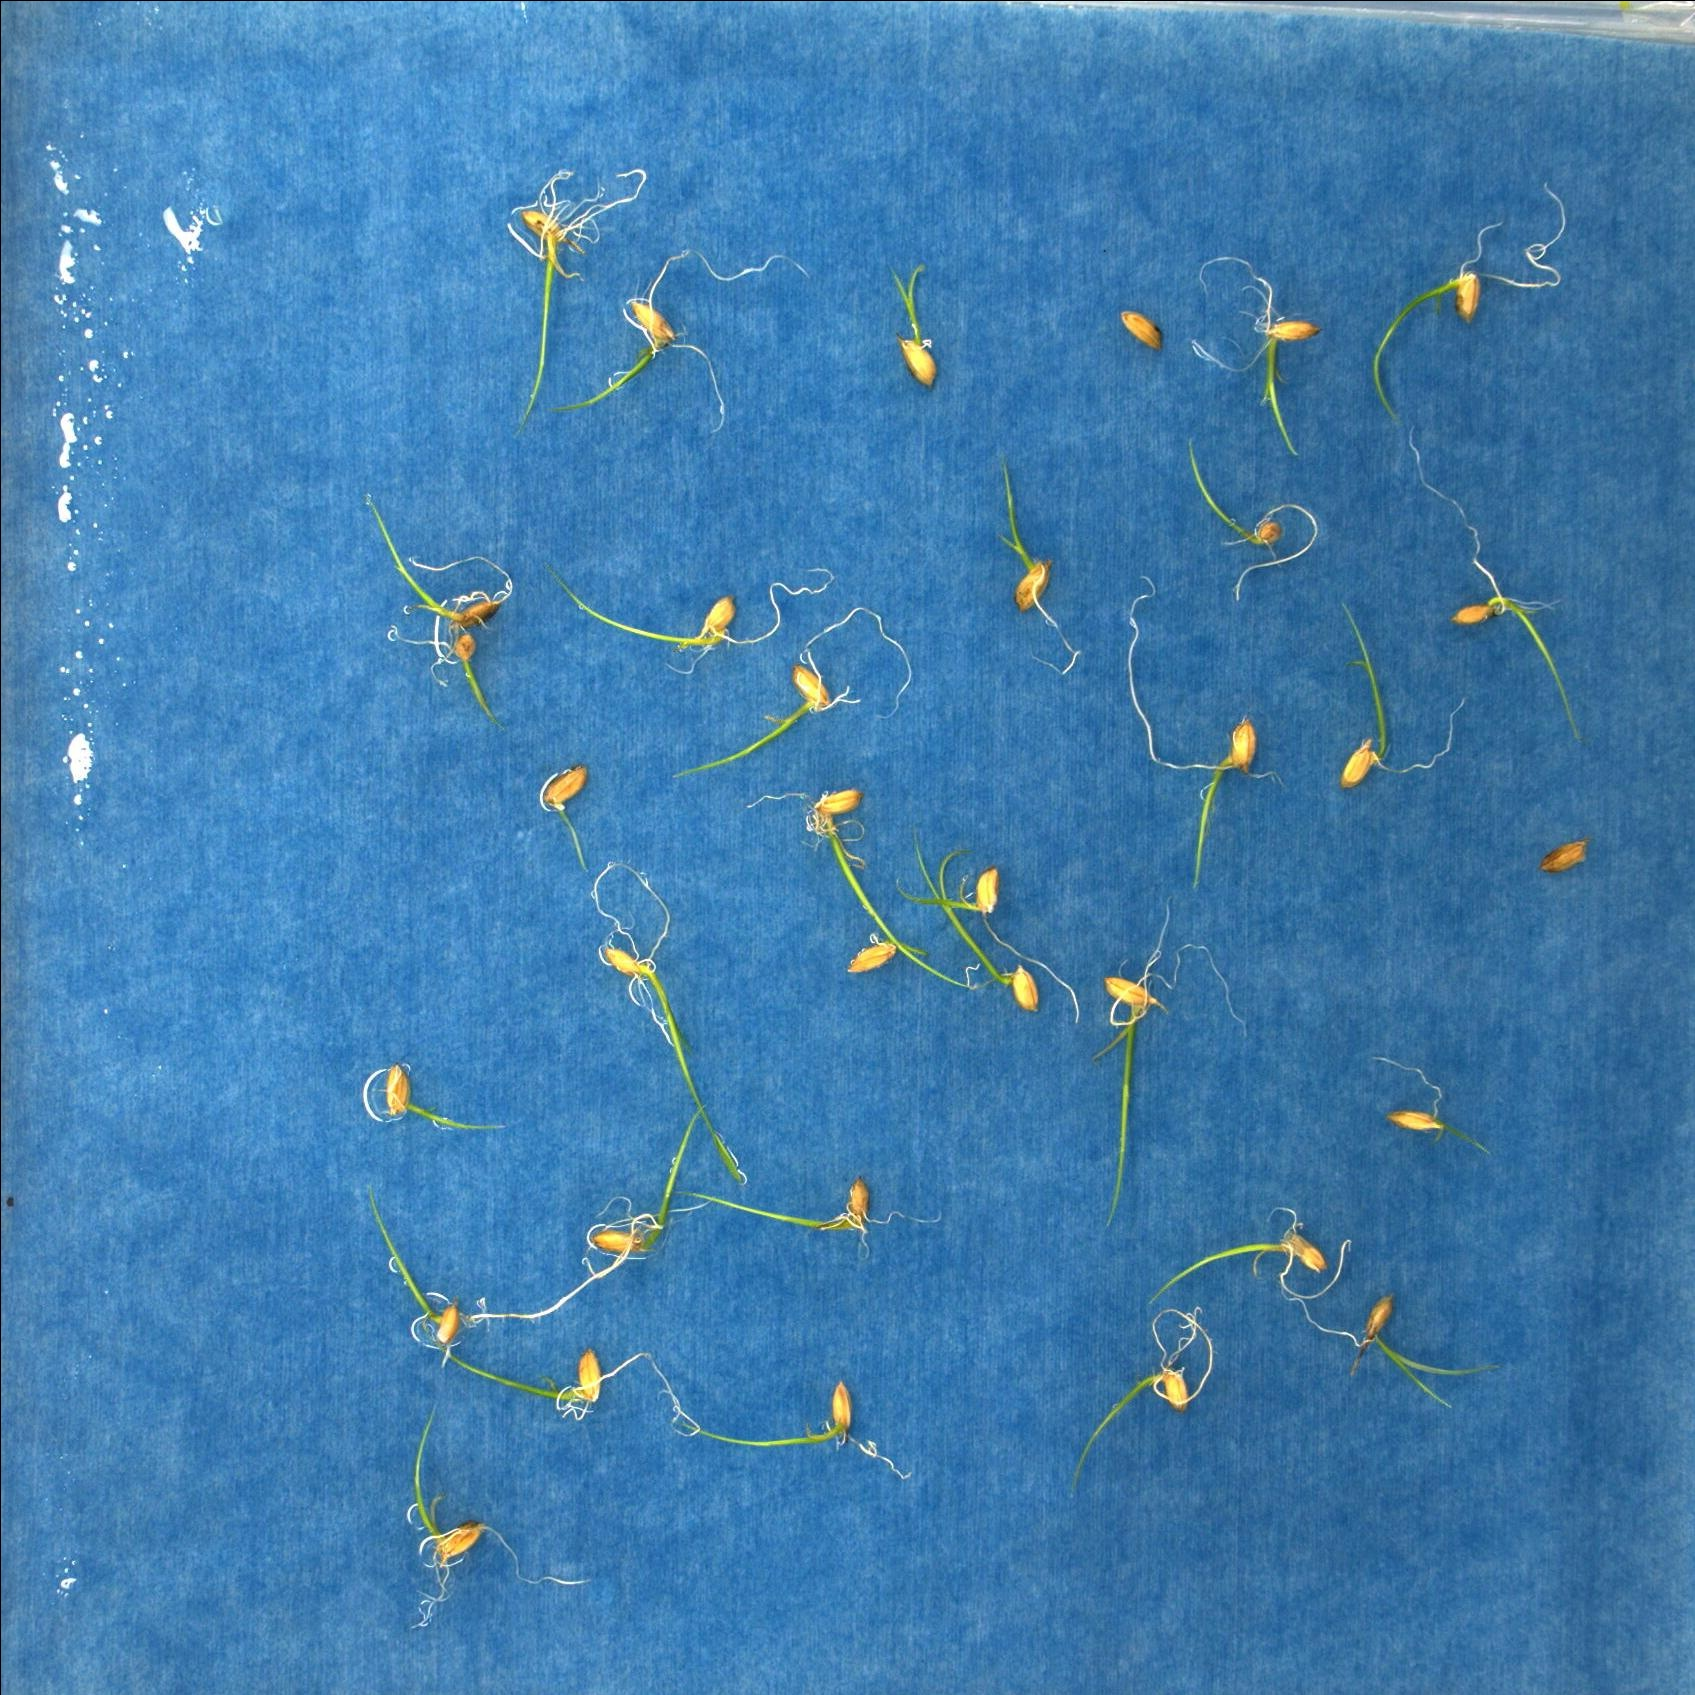not sprout: (1540, 840, 1589, 875), (1121, 307, 1163, 349)
sprout: (1406, 424, 1583, 750), (466, 1101, 711, 1319), (591, 855, 747, 1186), (1093, 900, 1248, 1229), (1128, 573, 1287, 891), (549, 247, 809, 435), (747, 789, 979, 990), (1372, 182, 1565, 425), (404, 1399, 596, 1628), (674, 605, 913, 781), (542, 557, 838, 677), (647, 1357, 917, 1482), (514, 169, 646, 425), (900, 849, 1083, 1028), (1274, 1288, 1503, 1409), (1071, 1307, 1214, 1499), (1189, 255, 1322, 458), (348, 487, 528, 629), (1335, 601, 1465, 792), (910, 834, 1038, 1014), (1184, 438, 1315, 602), (681, 1180, 948, 1253), (1149, 1205, 1352, 1299), (366, 1184, 467, 1364), (997, 463, 1082, 675), (439, 1346, 650, 1423), (1369, 1054, 1499, 1159), (386, 610, 504, 725), (380, 1060, 509, 1132), (886, 264, 941, 390), (532, 765, 593, 872), (843, 938, 930, 981)
